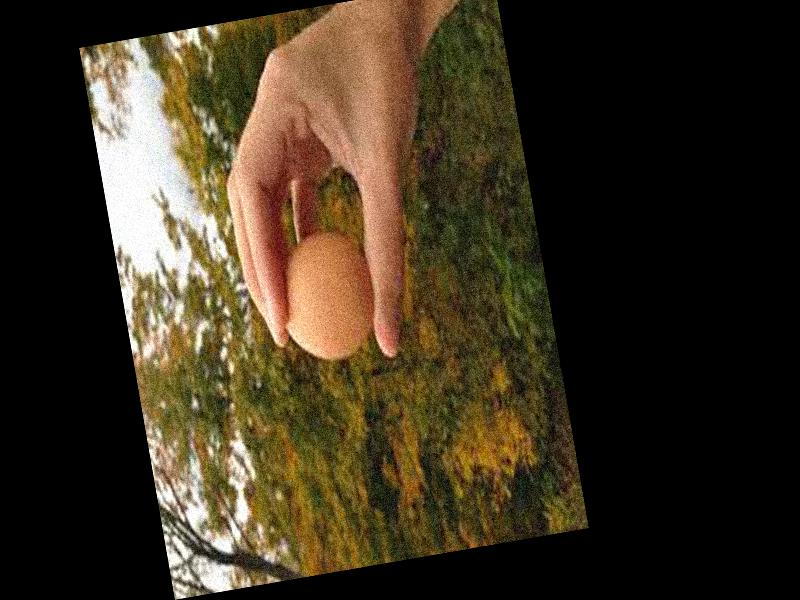Eggs: (269, 227, 383, 366)
